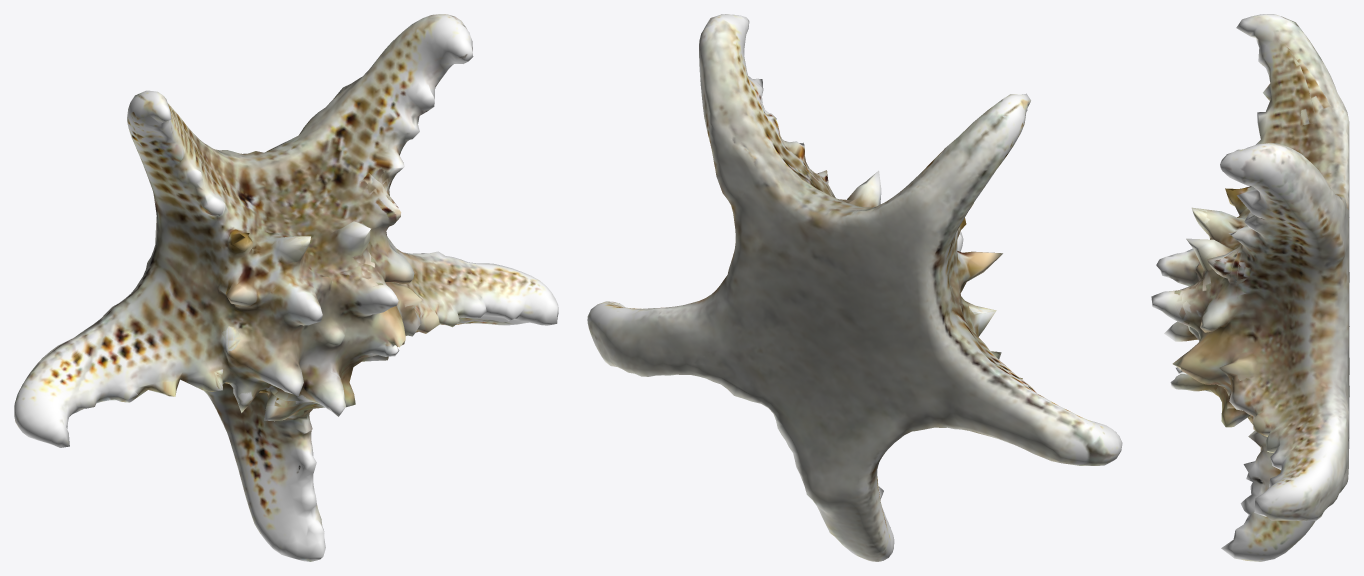
File: starfishReducedVertex2.fbx
The picture shows the model from 3 angles, left to right: view 1: azimuth 30°, elevation 25°; view 2: azimuth 150°, elevation 25°; view 3: azimuth 270°, elevation 25°; orthographic projection. The views are drawn at different scales.
Parts seen in each view (by area): view 1: for3dcoat; view 2: for3dcoat; view 3: for3dcoat.
Part boxes in pixels (bbox=[...]): for3dcoat: bbox=[14, 14, 558, 561]; for3dcoat: bbox=[587, 14, 1122, 561]; for3dcoat: bbox=[1151, 14, 1349, 561].
Bounding box in the file's own units: 0.1478 × 0.1343 × 0.0497.
